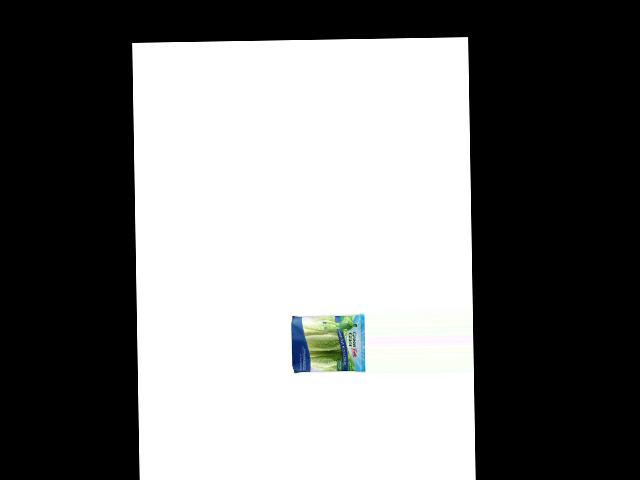lettuce: (288, 312, 362, 373)
